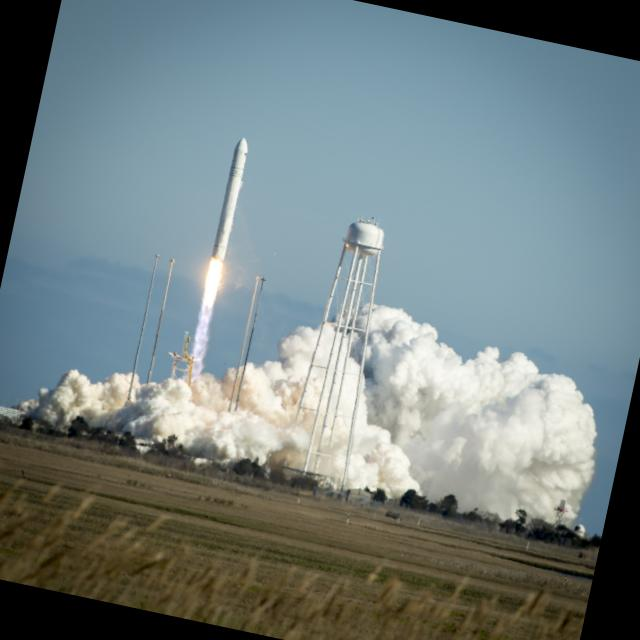rocket: (184, 123, 268, 345)
